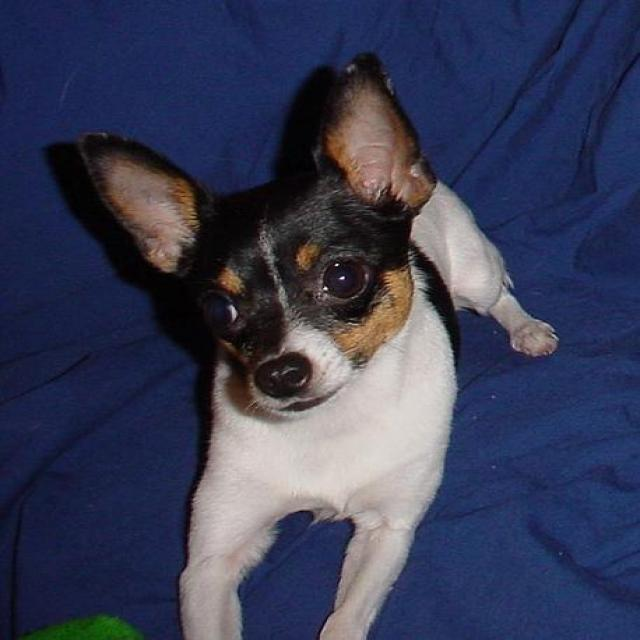toy_terrier: (74, 52, 560, 638)
